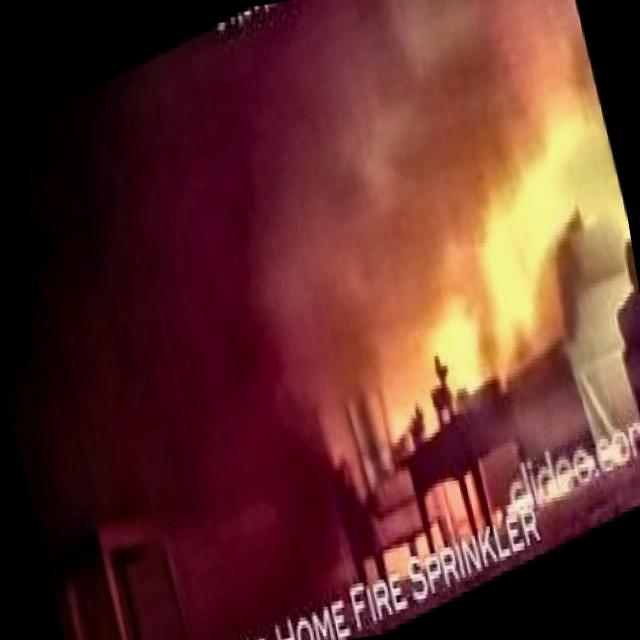fire: (263, 1, 640, 494)
